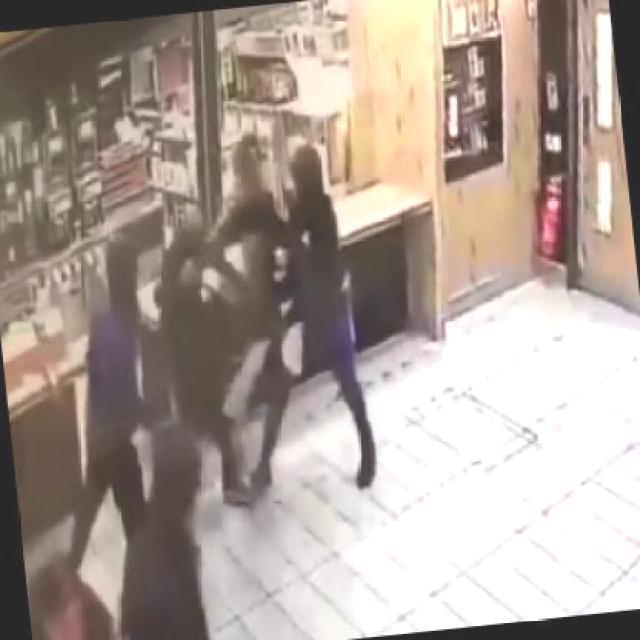fight: (196, 126, 376, 499)
